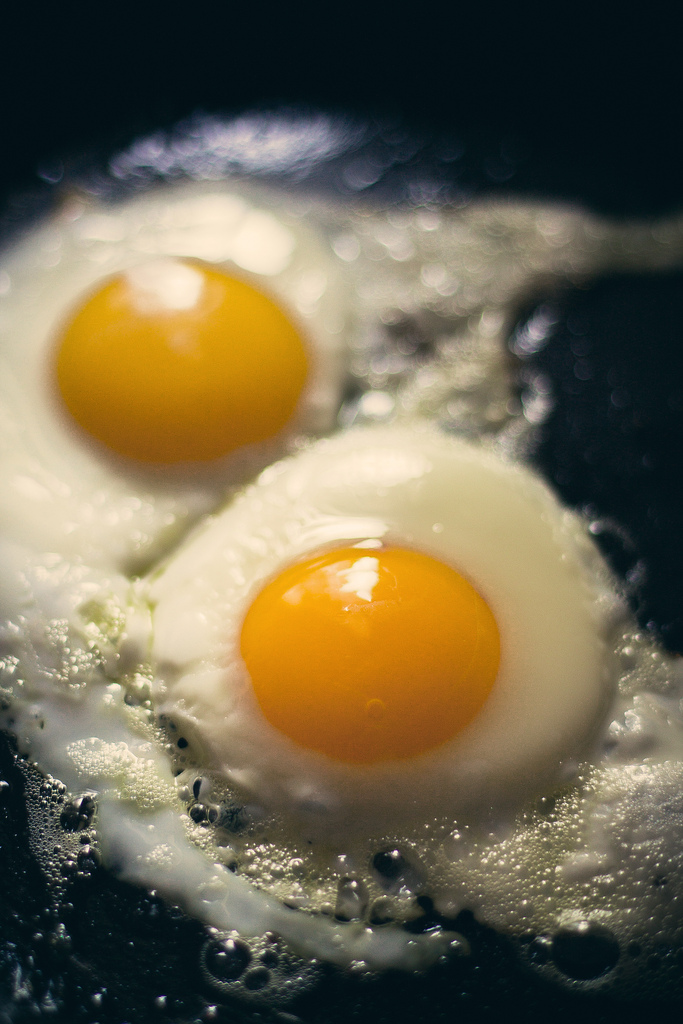fried egg: (180, 492, 603, 816), (16, 238, 420, 511)
